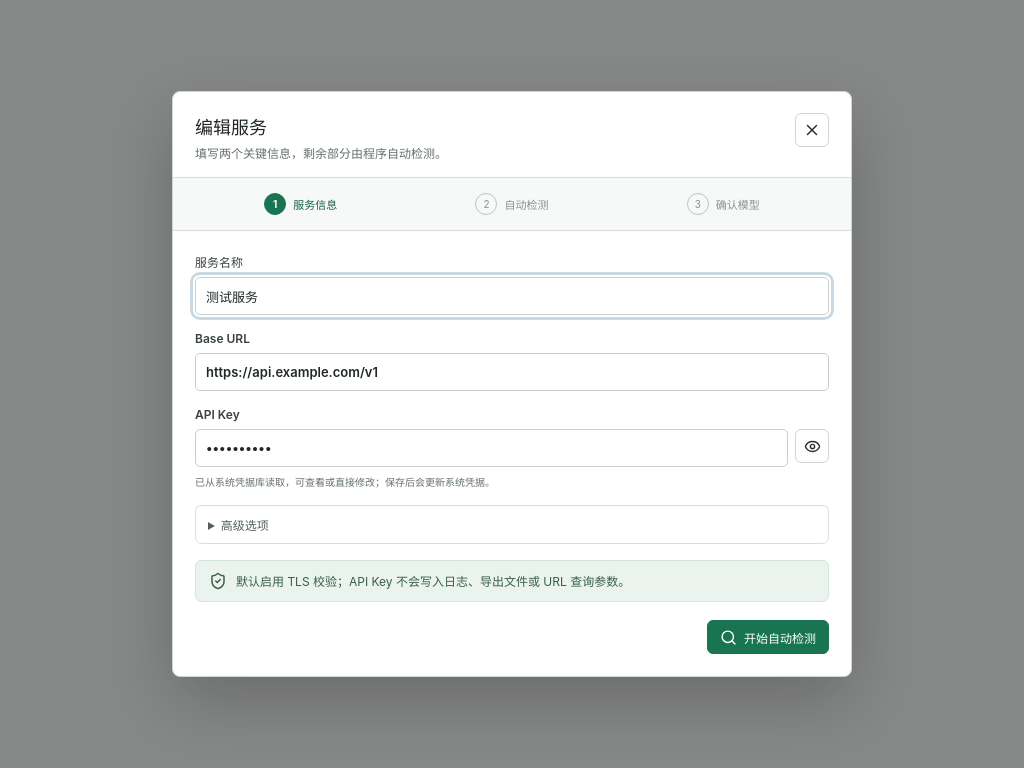
Test: ProviderWizard 的验证入口门控 › 编辑已保存服务时把 provider.reasoningVerifications 传进选择器
Expected: the text "已从系统凭据库读取，可查看或直接修改；保存后会更新系统凭据。" is shown, [195,476,495,488]
Click the button "开始自动检测" at {"x": 768, "y": 637}, box [707,620,829,654]
(page scrolled)
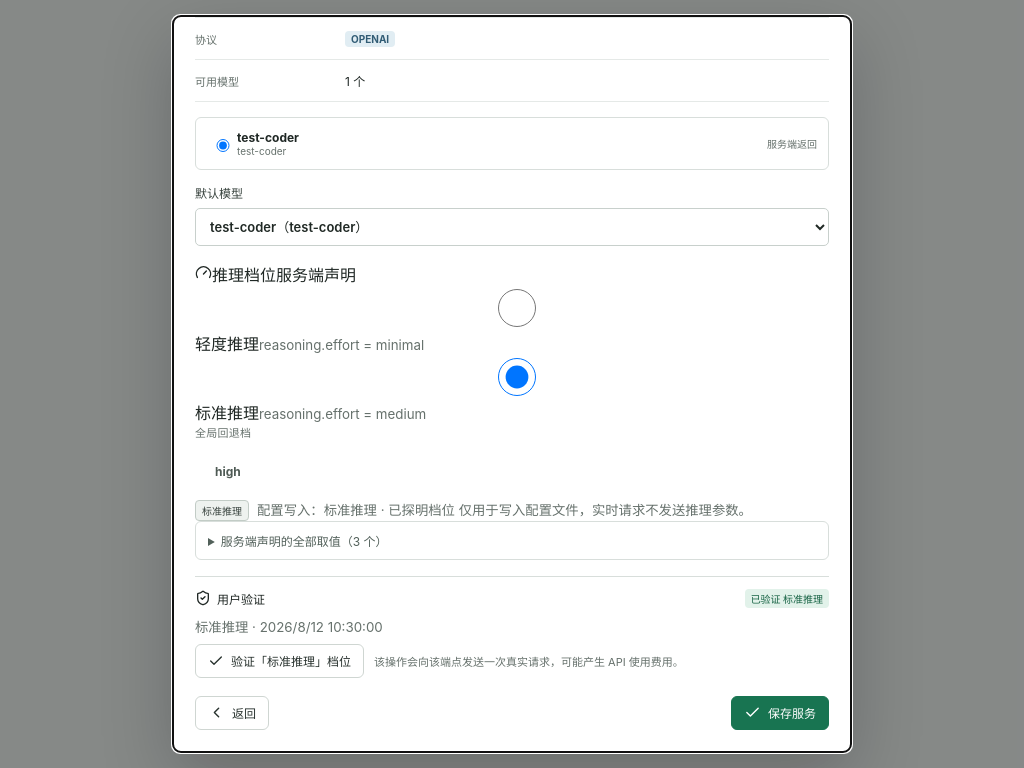
Result: the element labelled "推理档位" is shown at [195,262,829,678]
Result: the element named "运行时验证" is shown at [195,576,829,678]
Result: the text "已验证 标准推理" is shown at [745,589,829,608]
